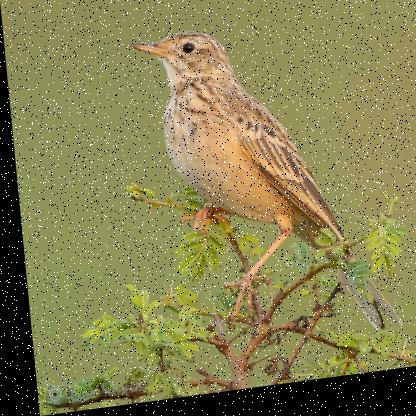Burung: (123, 15, 397, 367)
